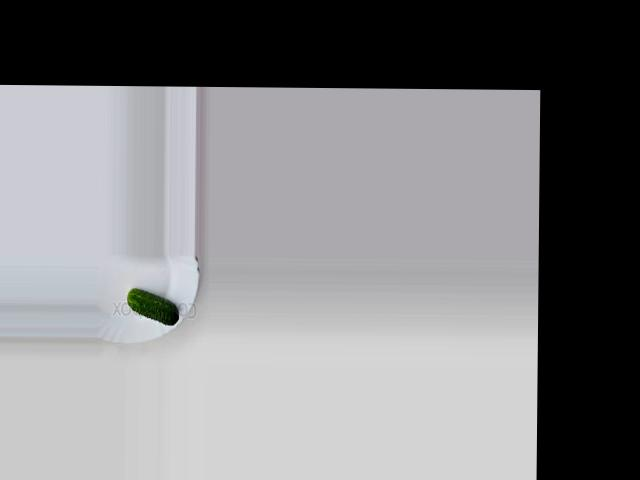cucumber: (127, 288, 178, 325)
